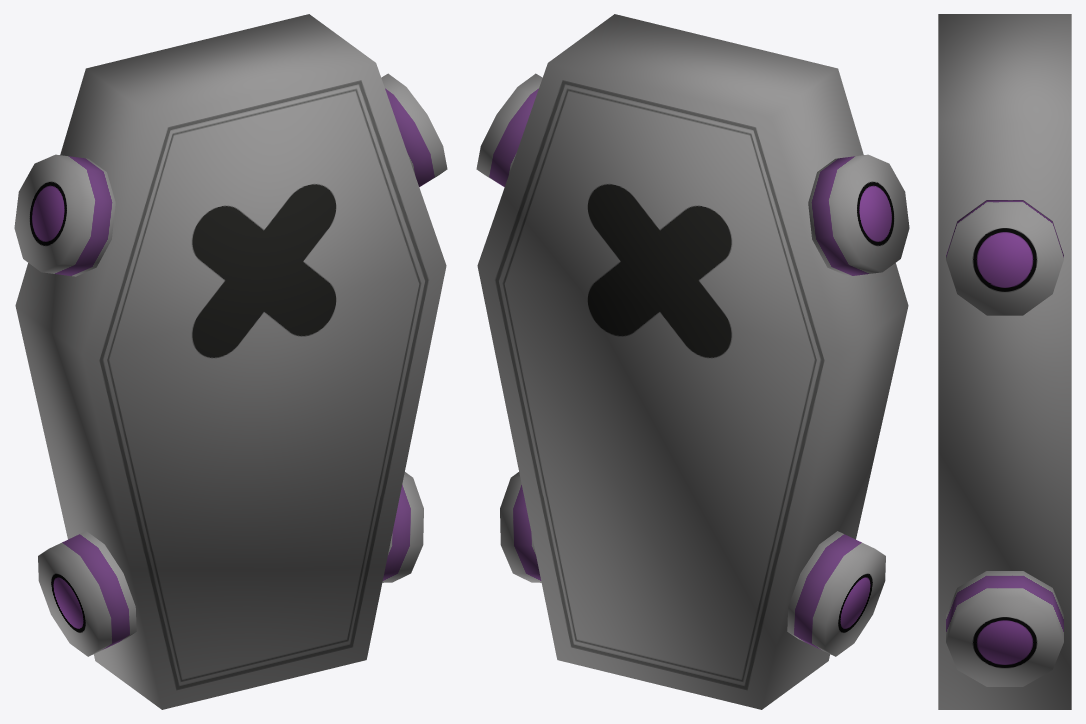
Rendered from Ataud_U1.fbx.
The picture shows the model from 3 angles, left to right: view 1: azimuth 30°, elevation 25°; view 2: azimuth 150°, elevation 25°; view 3: azimuth 270°, elevation 25°; orthographic projection.
Visible parts, largest first — view 1: Cube.004, Cylinder.002, Cylinder.001; view 2: Cube.004, Cylinder.002, Cylinder.001; view 3: Cube.004, Cylinder.001, Cylinder.002.
Part boxes in pixels (<box>): Cube.004: <box>15,14,446,709</box>; Cylinder.002: <box>14,73,447,276</box>; Cylinder.001: <box>38,472,423,656</box>; Cube.004: <box>477,14,908,709</box>; Cylinder.002: <box>476,73,909,276</box>; Cylinder.001: <box>500,472,885,656</box>; Cube.004: <box>938,14,1071,709</box>; Cylinder.001: <box>946,571,1063,686</box>; Cylinder.002: <box>946,200,1063,315</box>.
Bounding box in the file's own units: 1.21 × 1.72 × 0.3512.
